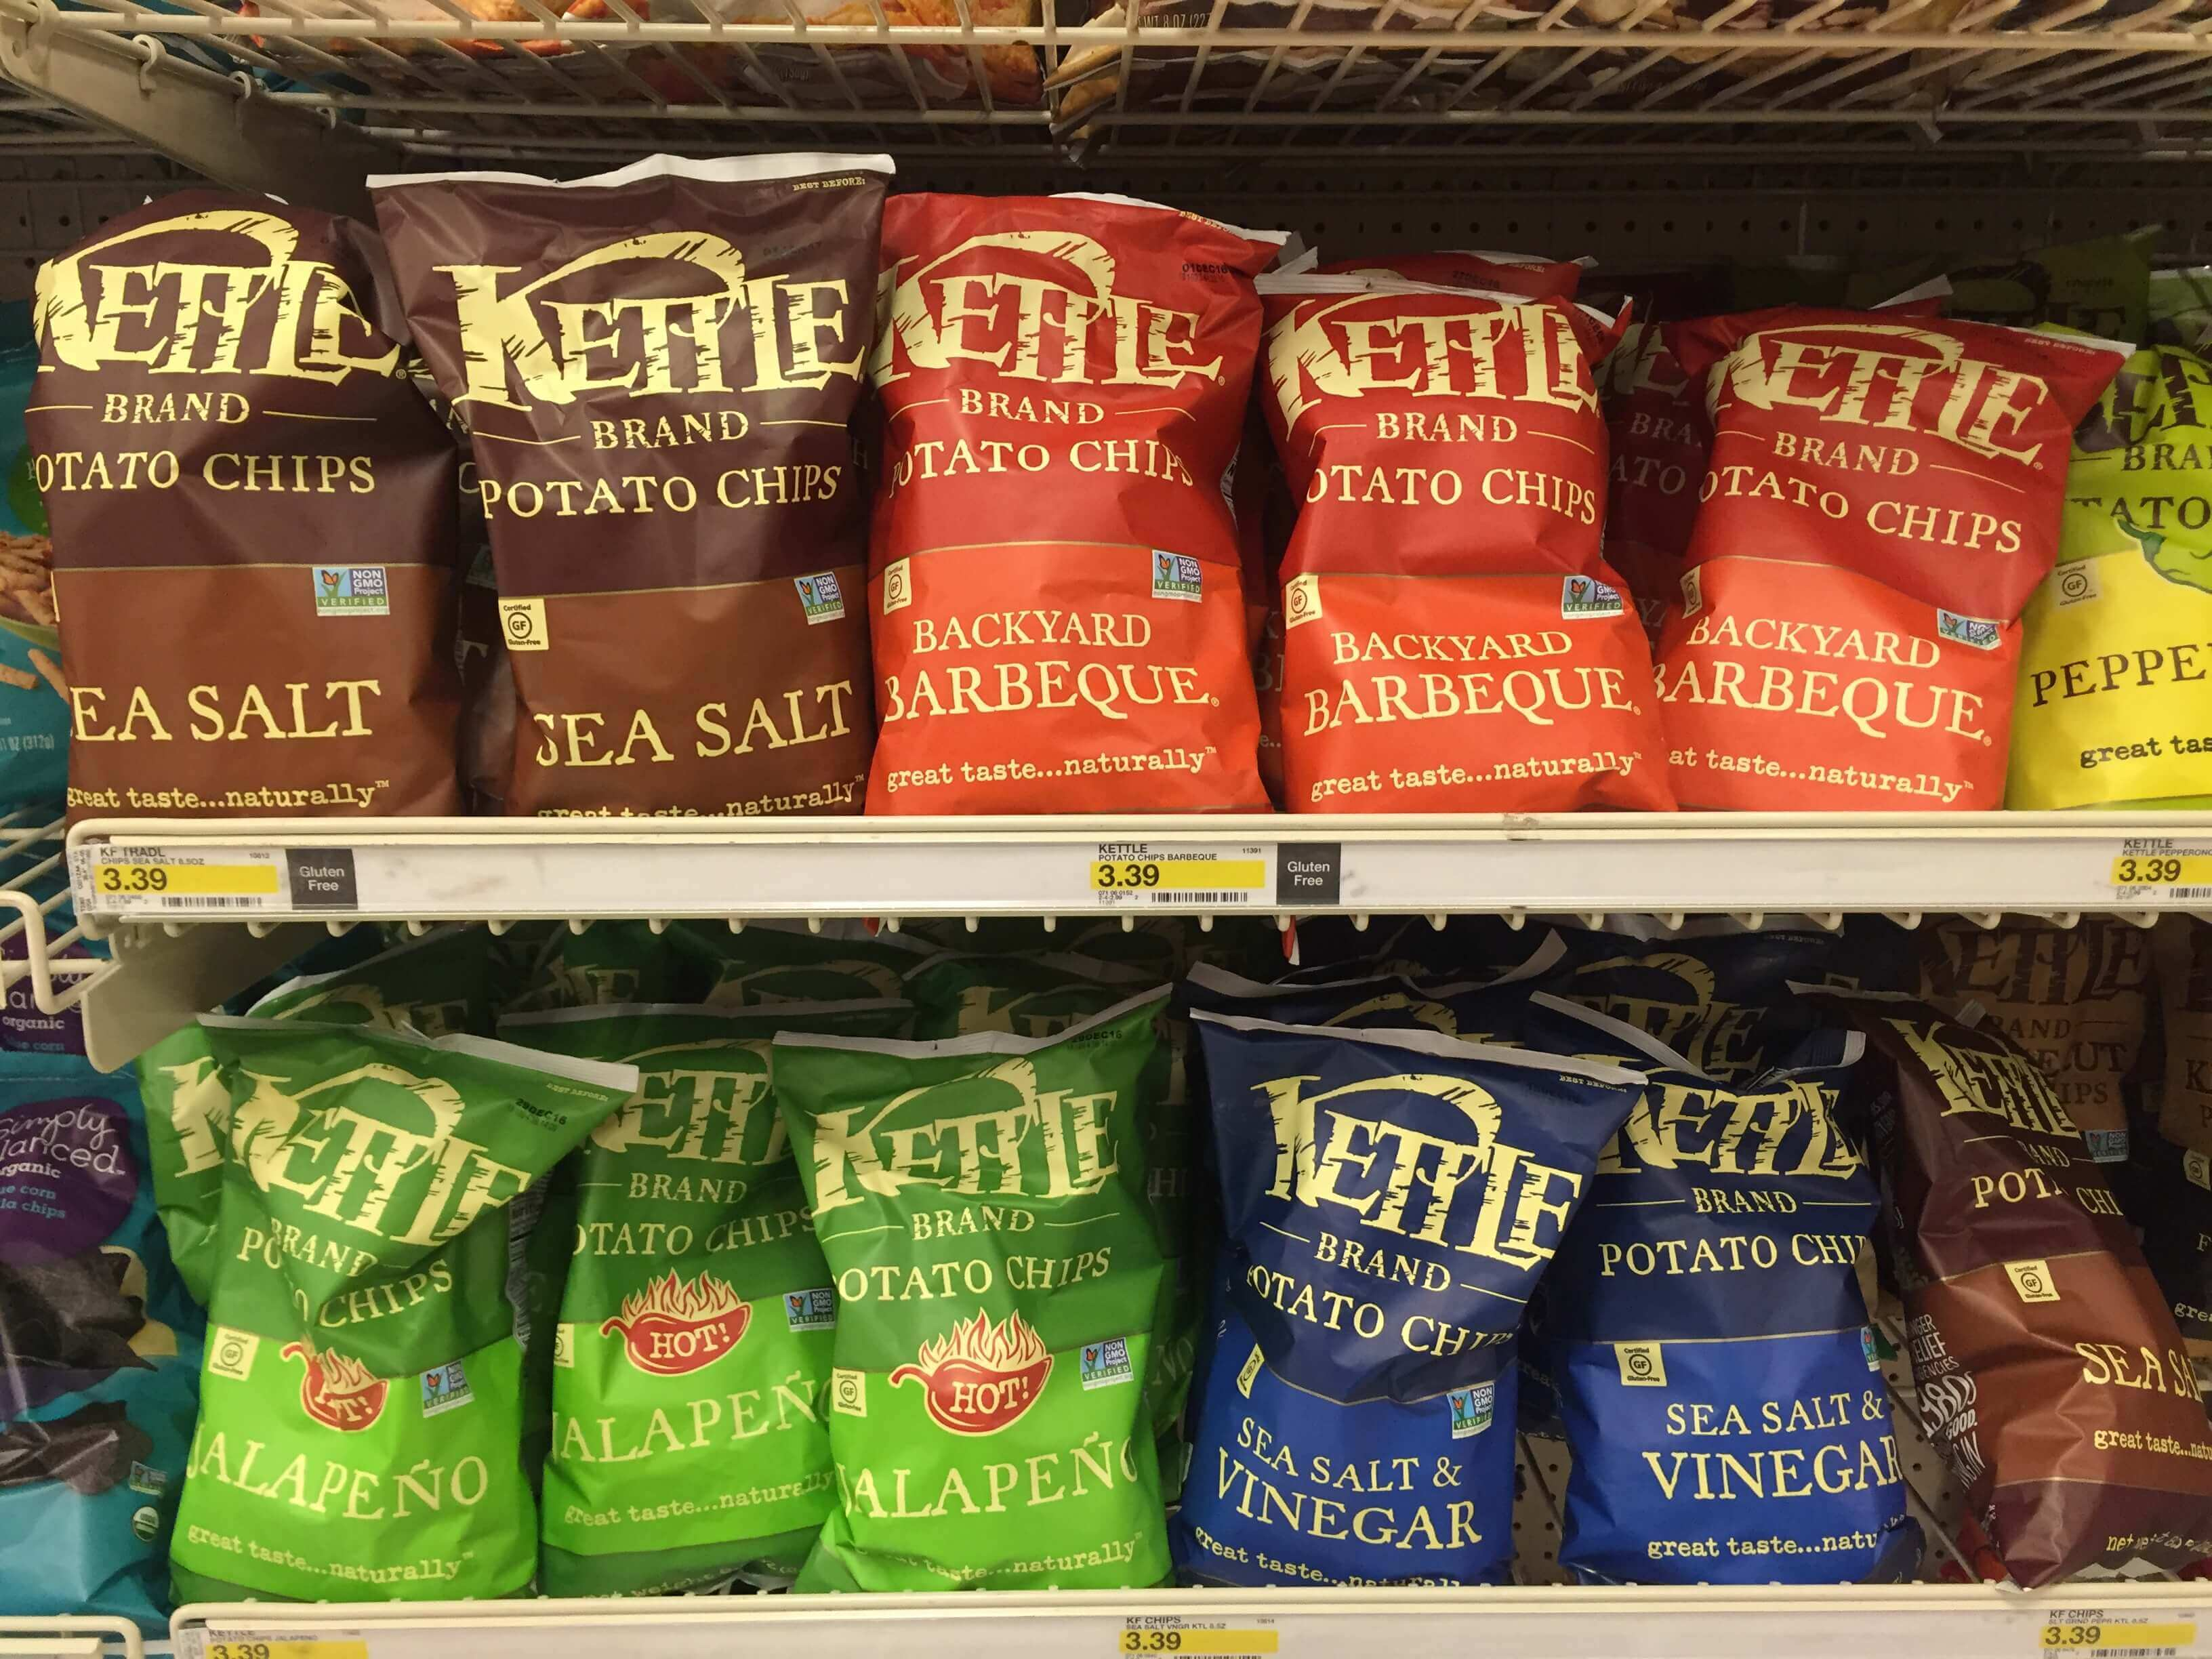chip: (383, 167, 873, 814), (17, 209, 449, 824), (1238, 235, 1662, 809), (867, 202, 1237, 838), (873, 195, 1240, 819), (1209, 1030, 1609, 1601), (167, 1086, 613, 1584), (1627, 279, 2033, 826), (834, 985, 1177, 1588), (1872, 1030, 2212, 1584), (1599, 1037, 1921, 1601), (563, 1025, 824, 1577)
